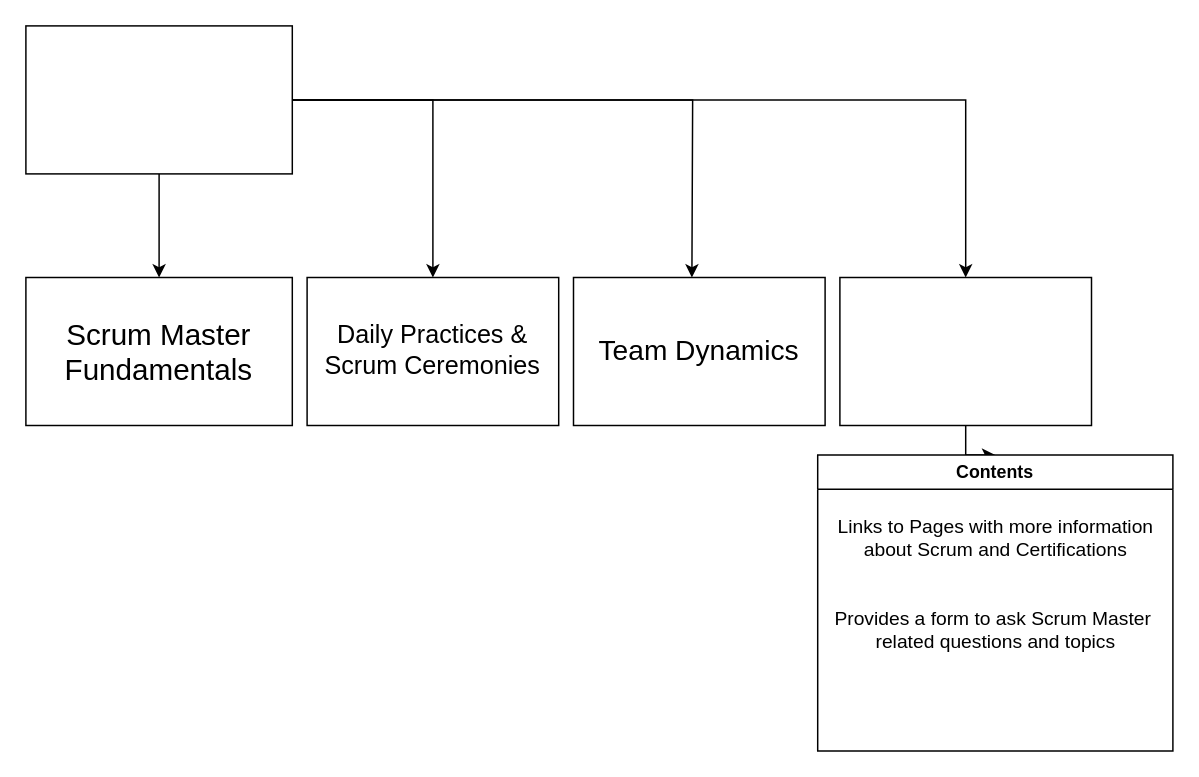
Image size: 1199x777. Some labels were removed from this diagram. The centre of each missing label's shape, as x and y in pixels:
"Growth & Improvements" belongs at (965,351).
"Home Page" belongs at (158,99).
